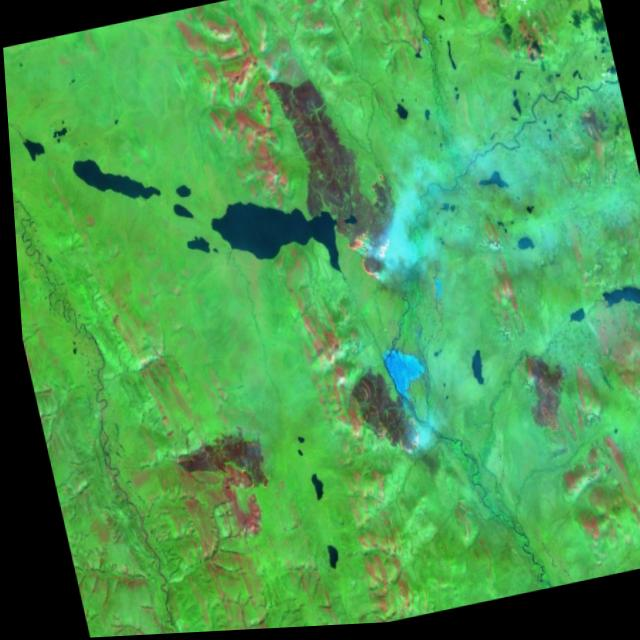fire: (309, 160, 417, 312), (381, 402, 423, 476)
